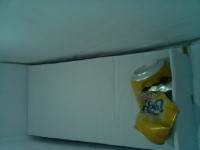kaleng: (129, 58, 180, 146)
